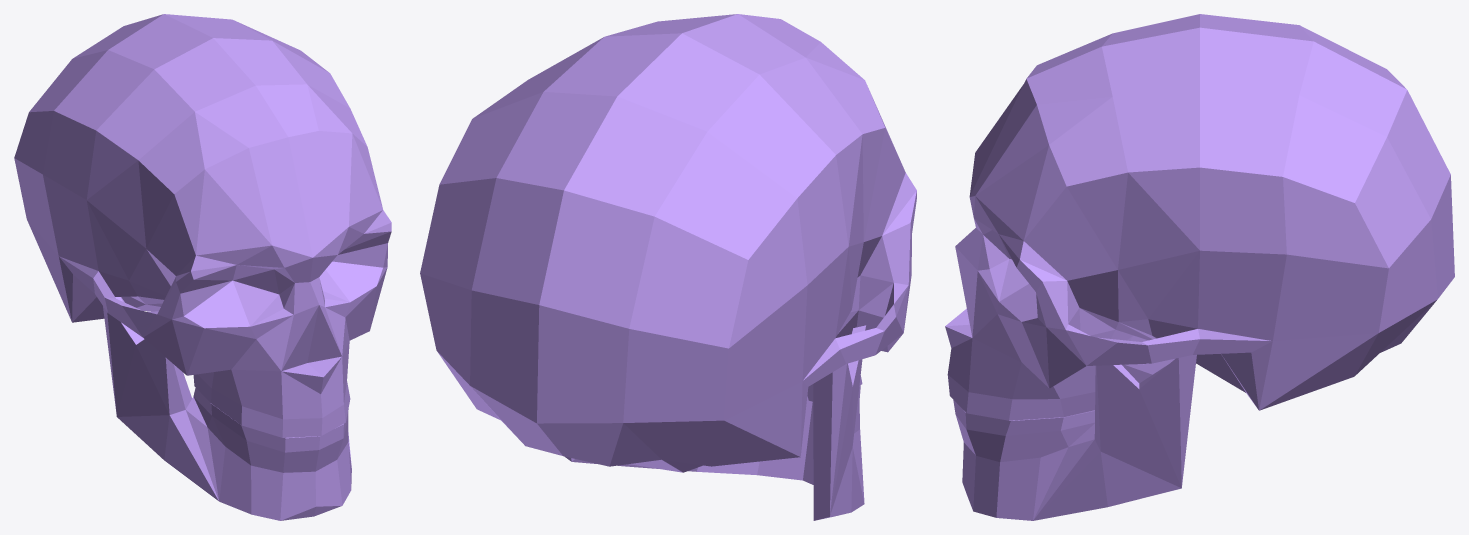
3 views of the same model, side by side, from view 1: azimuth 30°, elevation 25°; view 2: azimuth 150°, elevation 25°; view 3: azimuth 270°, elevation 25° (orthographic). The views are drawn at different scales.
Parts seen in each view (by area): view 1: Cube, Cube.001; view 2: Cube, Cube.001; view 3: Cube, Cube.001.
Part boxes in pixels (x1=…): Cube: x1=14, y1=14, x2=391, y2=437; Cube.001: x1=103, y1=297, x2=351, y2=520; Cube: x1=420, y1=14, x2=916, y2=472; Cube.001: x1=564, y1=325, x2=866, y2=520; Cube: x1=945, y1=14, x2=1454, y2=420; Cube.001: x1=953, y1=335, x2=1196, y2=520.
Size of the model in its own units: 1.36 by 1.99 by 1.95.
